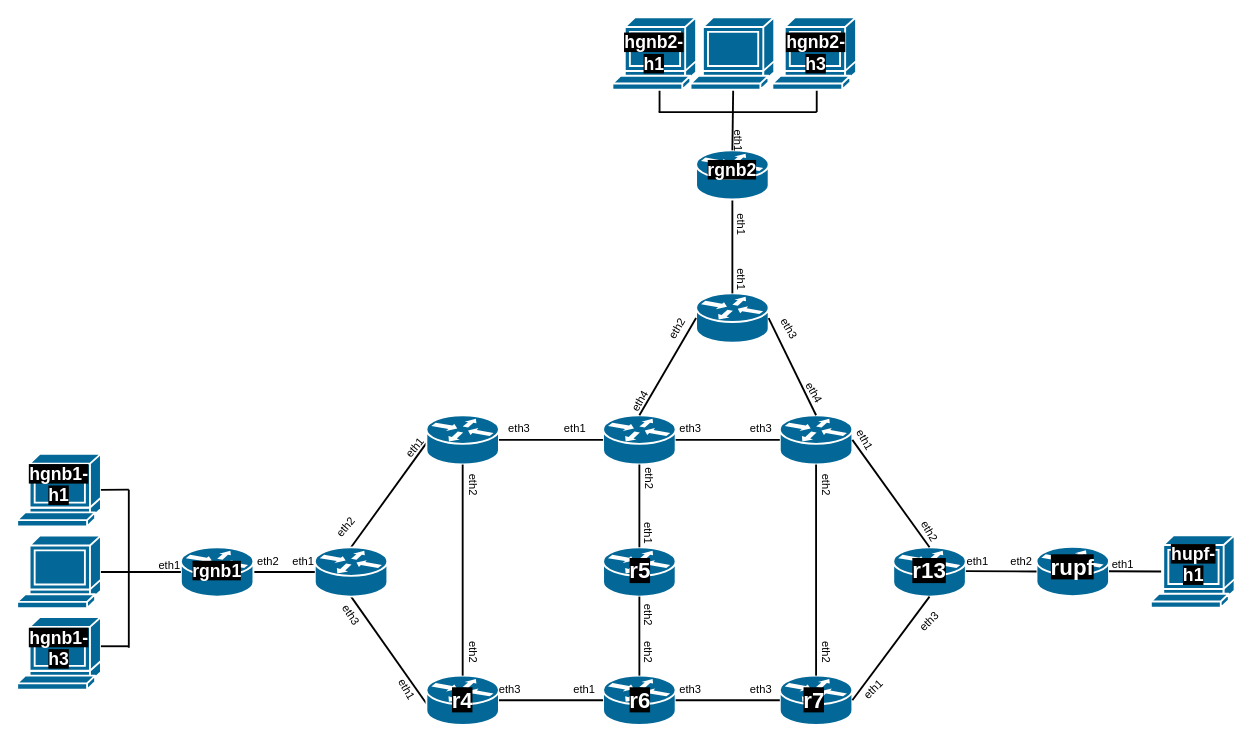
Image size: 1251x745. Some labels were removed from this diagram. The centre of each missing label's shape, as x and y in pixels:
"hgnb1-h2" goes at [58,571].
"hgnb2-h2" goes at [732,53].
"r1" goes at [462,439].
"r11" goes at [350,571].
"r12" goes at [732,317].
"r2" goes at [639,439].
"r3" goes at [815,439].
